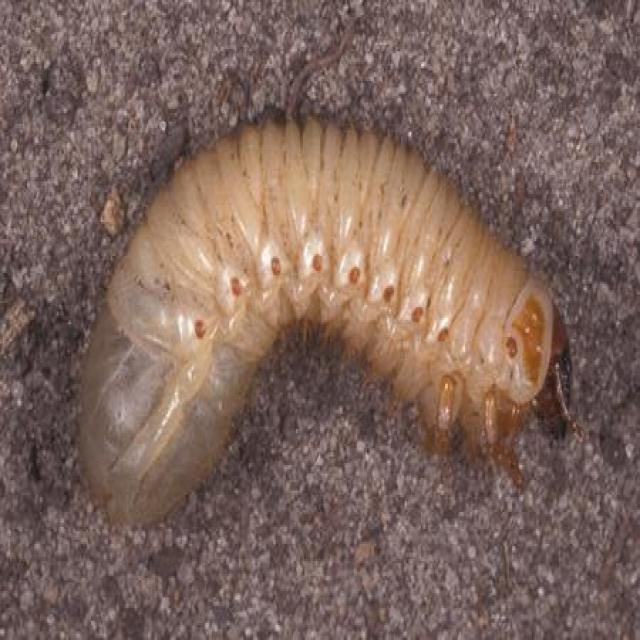Grub-Adult-: (76, 104, 568, 532)
